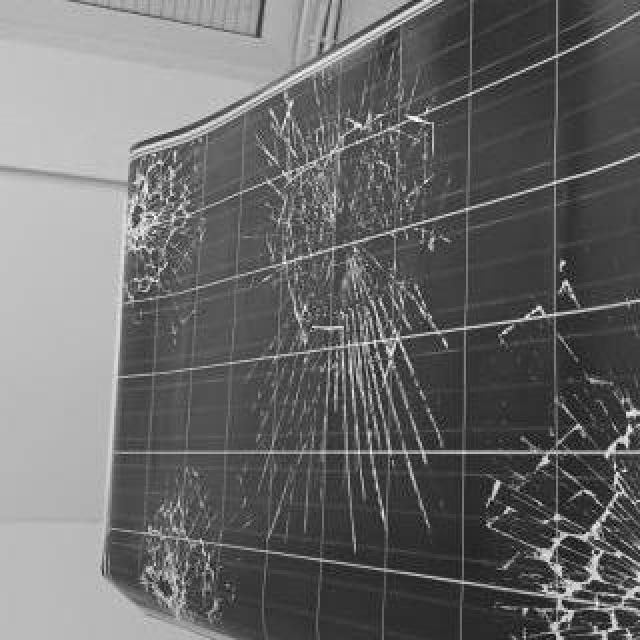Dusty: (108, 7, 638, 640)
Physical-damage: (263, 102, 460, 542), (494, 300, 640, 639), (138, 466, 252, 640), (114, 150, 200, 329)
